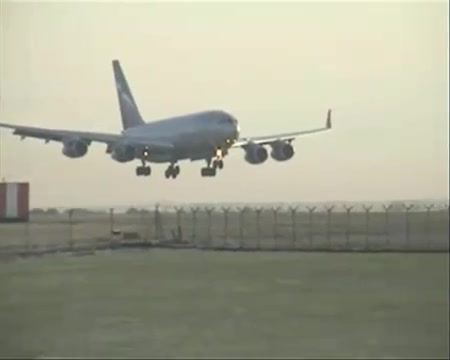aeroplane: (1, 60, 334, 180)
